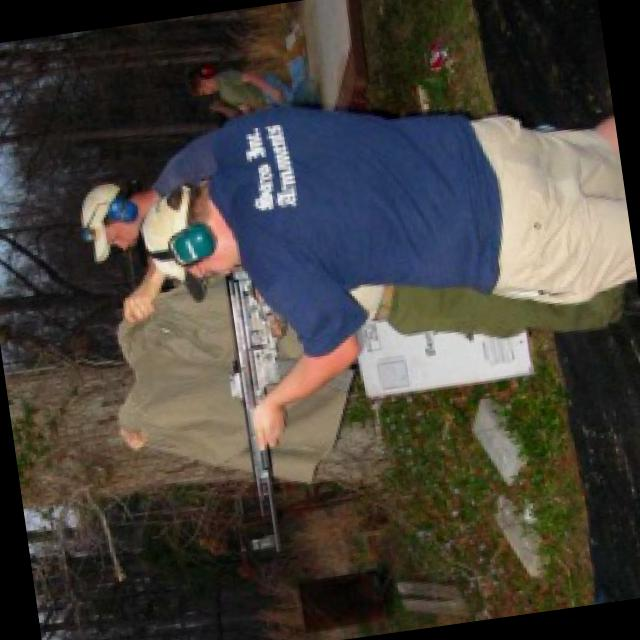long weapon: (200, 292, 320, 571)
